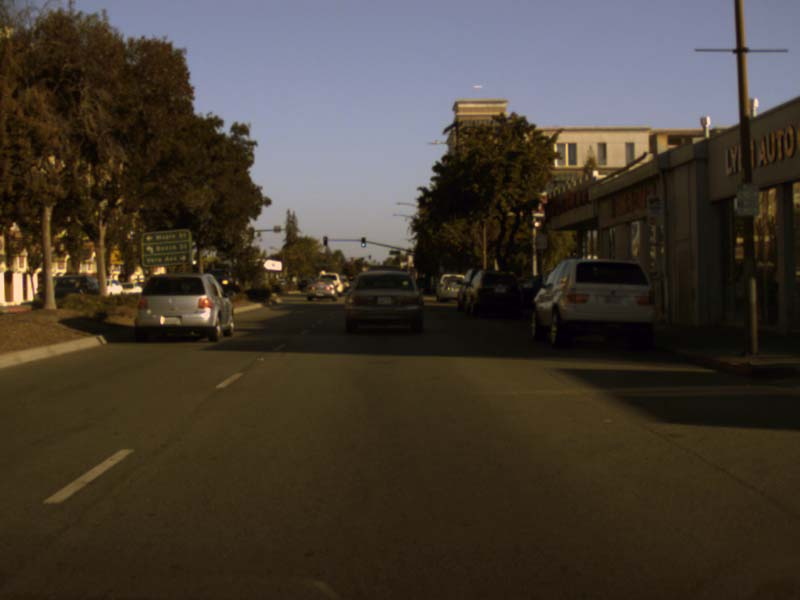Green: (360, 236, 365, 246)
Red: (322, 236, 326, 244)
